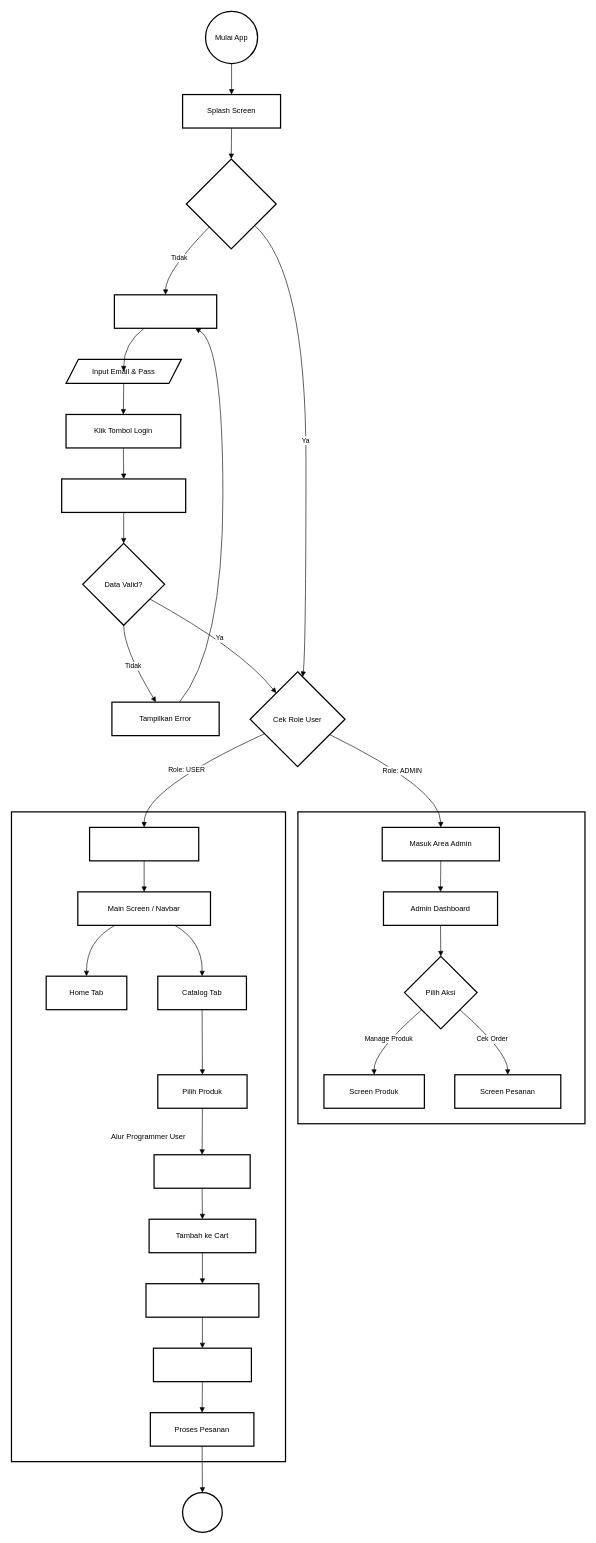
This 596x1543 diagram has some shape labels left out. The shapes that lost their labels are listed below. From the top down, each one's box as (x1, y1, x2, y2) in pixels, then its label:
(185, 158, 277, 249): Sudah Login?
(113, 294, 217, 329): Halaman Login
(61, 478, 186, 513): Panggil AuthService
(89, 826, 199, 861): Masuk Area User
(297, 811, 585, 1124): Alur Programmer Admin
(153, 1154, 250, 1189): Detail Screen
(145, 1283, 259, 1318): Buka Cart Screen
(153, 1347, 252, 1382): Klik Checkout
(182, 1492, 223, 1533): Selesai
